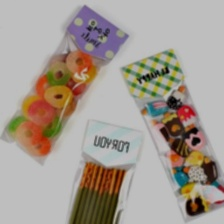snack: (0, 0, 135, 171), (114, 41, 224, 224), (60, 113, 150, 224)
